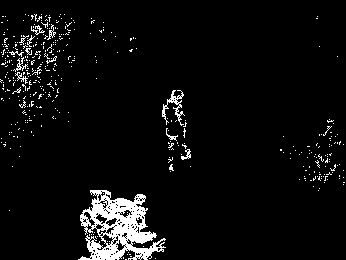person: (160, 87, 192, 174)
